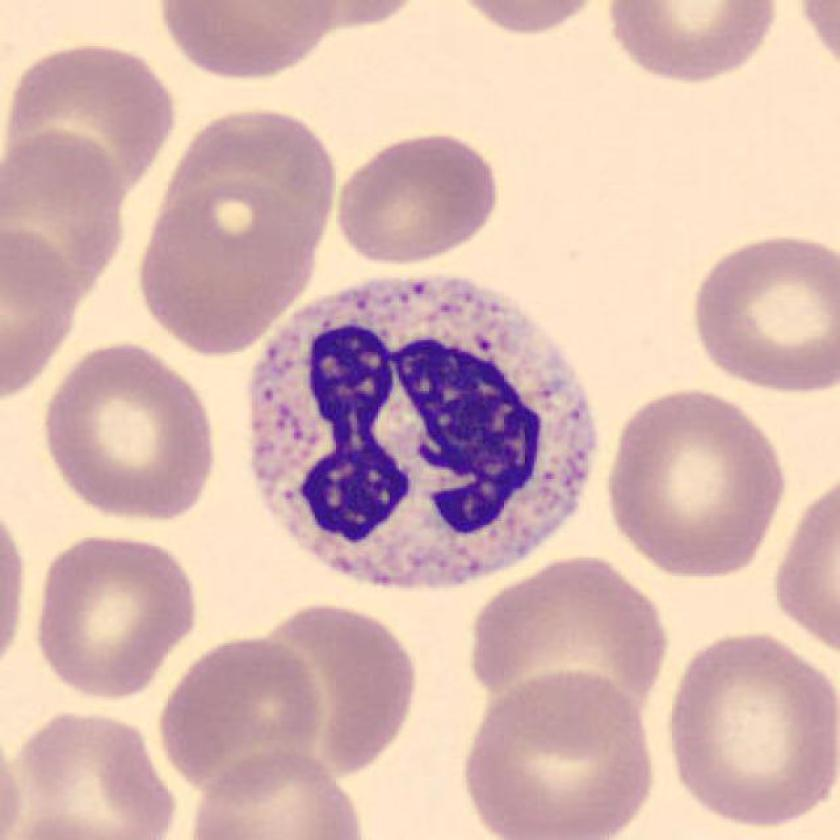neutrophil: (248, 281, 594, 580)
